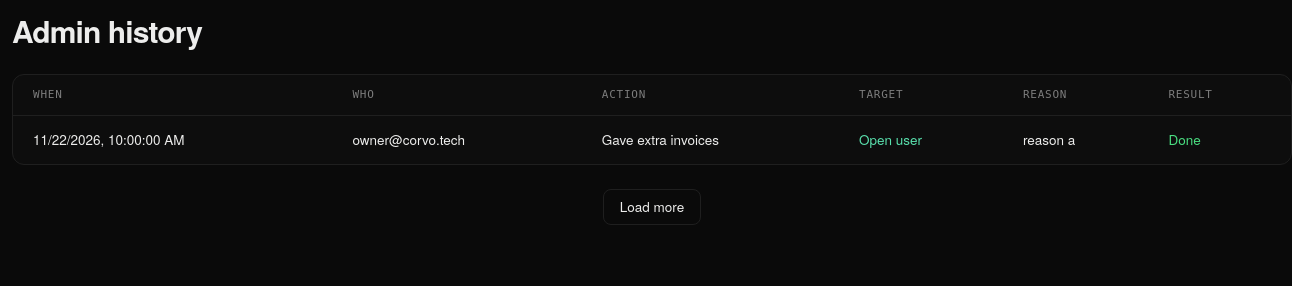
it: AuditPage › clears the error alert after a successful retry of load more
Click the button "Load more" at (652, 207), box [603,189,701,225]
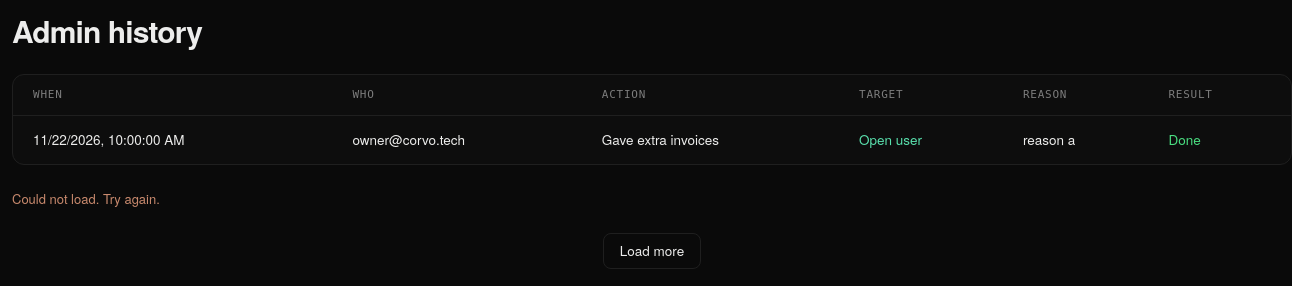
Expected: the message "Could not load. Try again." is shown, [12,189,160,208]
Click the button "Load more" at (652, 251), box [603,233,701,269]
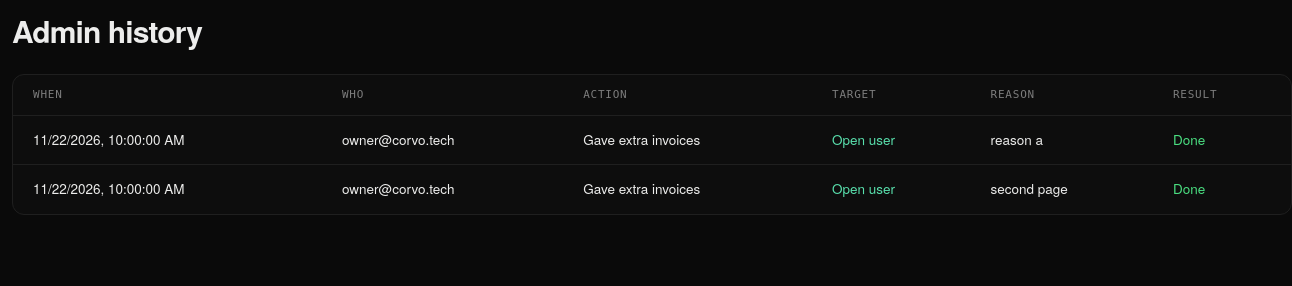
Expected: the message "Could not load. Try again." is gone
